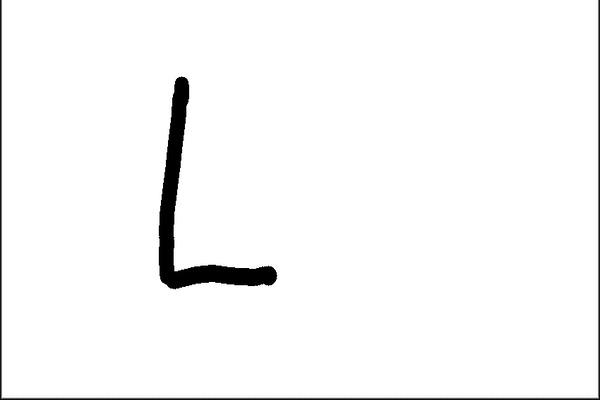L: (146, 65, 287, 298)
